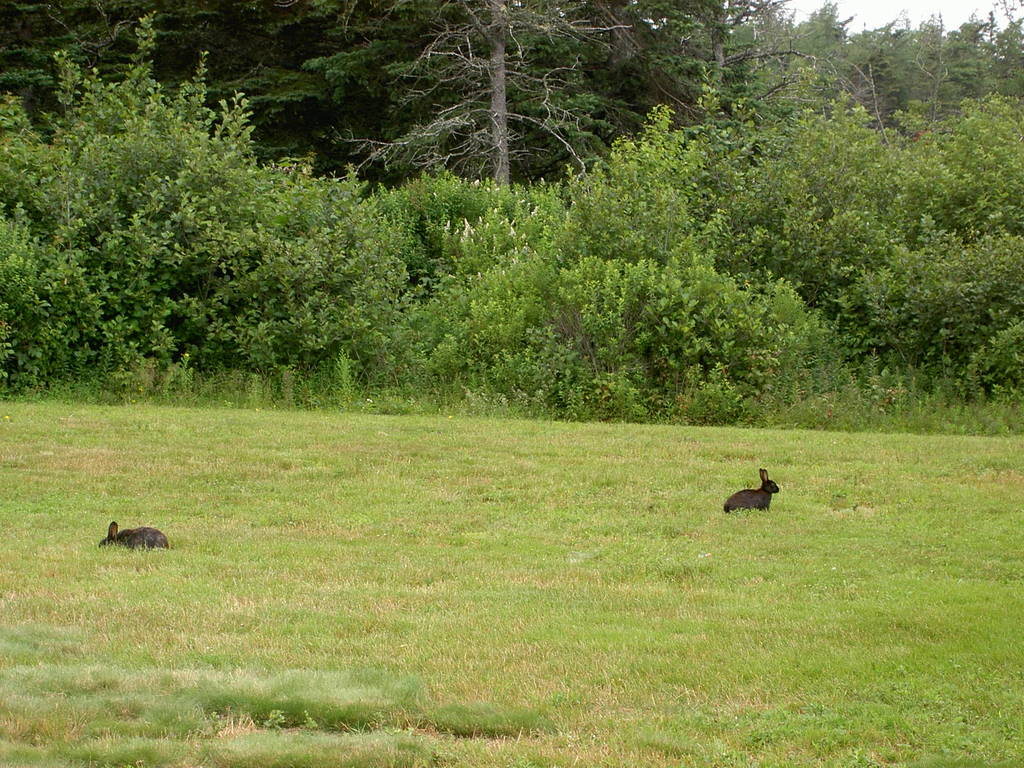Animal: (720, 465, 778, 512), (97, 516, 167, 552)
